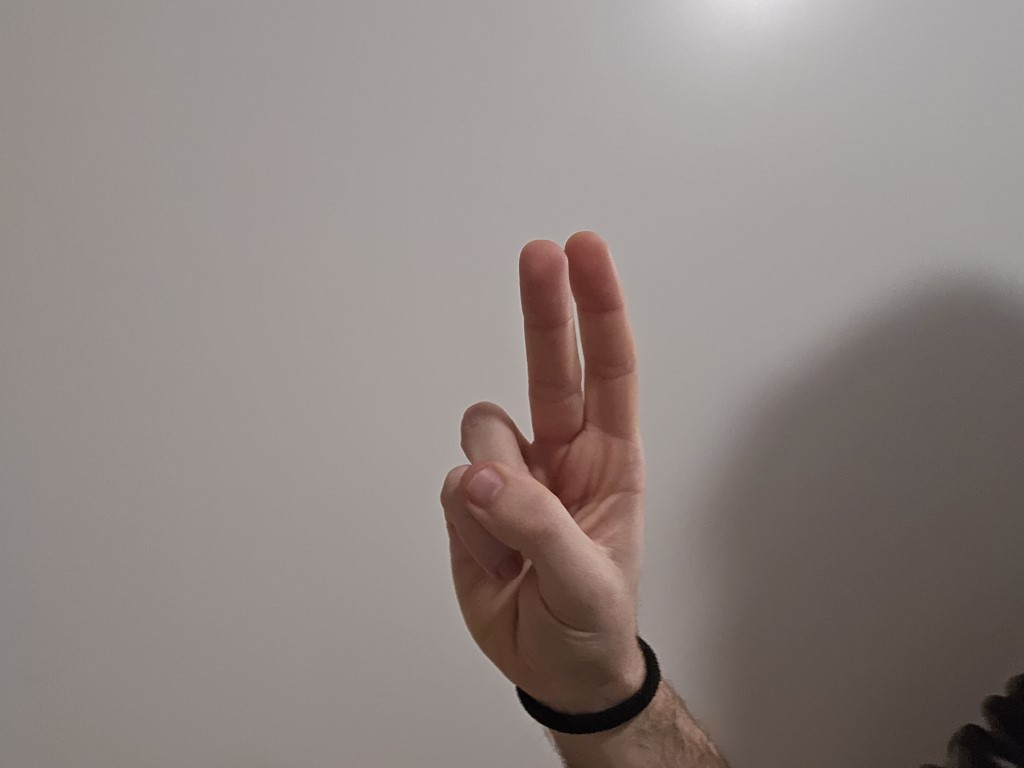r: (388, 229, 673, 667)
